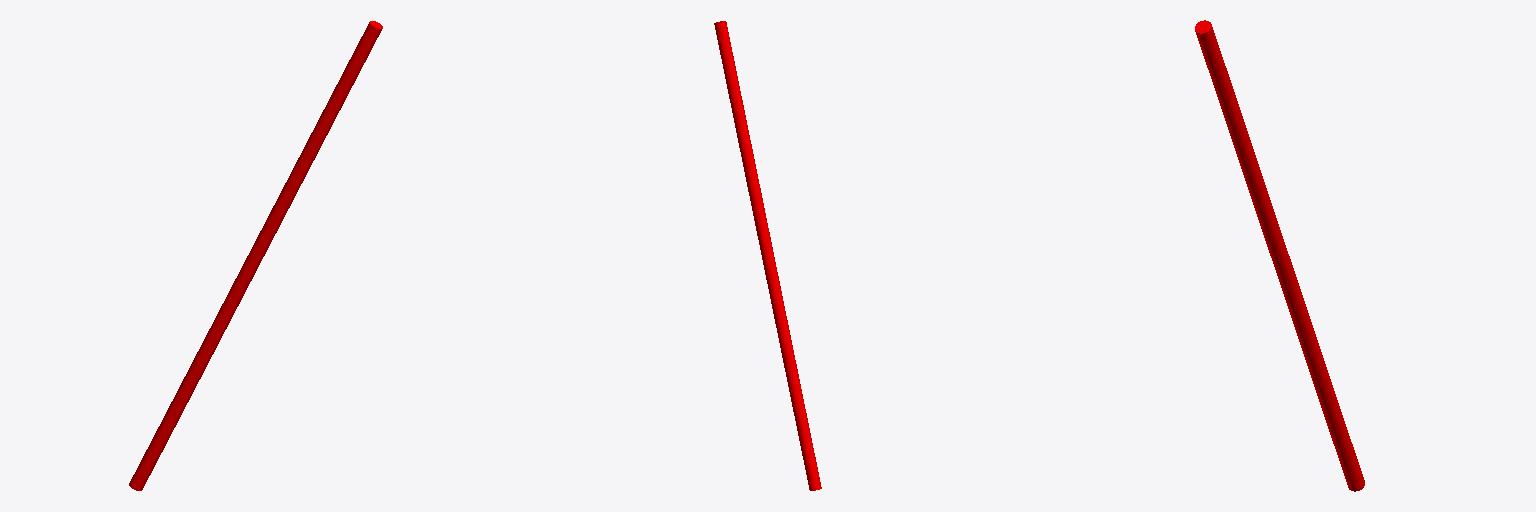
URDF robot description (tree_25.urdf):
<?xml version='1.0' encoding='utf-8'?>
<robot name="tree_25.urdf">
  <link name="branch_0">
    <inertial>
      <origin xyz="0.0 0.0 0.0" rpy="0.0 -0.0 0.0" />
      <mass value="1.0" />
      <inertia ixx="1.0" ixy="0.0" ixz="0.0" iyy="1.0" iyz="0.0" izz="1.0" />
    </inertial>
    <visual name="branch_0_visual">
      <geometry>
        <cylinder radius="0.043011255719930745" length="3.3265214117656146" />
      </geometry>
      <material name="semantic_material" />
      <origin xyz="0.5995388522378206 -0.3725043354555425 1.5060643613265525" rpy="0.0 0.4382655965317485 -0.5559472684336105" />
    </visual>
    <collision name="branch_0_collision">
      <geometry>
        <cylinder radius="0.043011255719930745" length="3.3265214117656146" />
      </geometry>
      <origin xyz="0.5995388522378206 -0.3725043354555425 1.5060643613265525" rpy="0.0 0.4382655965317485 -0.5559472684336105" />
    </collision>
  </link>
  <material name="semantic_material">
    <color rgba="1. 0. 0. 1." />
  </material>
</robot>

--- Facts derived from the render (not from the file) ---
The picture shows the robot from 3 angles, left to right: view 1: azimuth 30°, elevation 25°; view 2: azimuth 150°, elevation 25°; view 3: azimuth 270°, elevation 25°; orthographic projection.
Model tree_25.urdf with 1 links and 0 joints (none), rooted at branch_0, posed all joints at 0.
Links seen in each view (by area): view 1: branch_0; view 2: branch_0; view 3: branch_0.
Link boxes in pixels (x1,y1,x2,y2): branch_0: [129, 21, 382, 490]; branch_0: [714, 21, 821, 490]; branch_0: [1195, 20, 1364, 491].
Bounding box of the posed robot: 1.28 × 0.8286 × 3.05 m (x, y, z).
Geometry: primitives only (box / cylinder / sphere), no mesh files.
